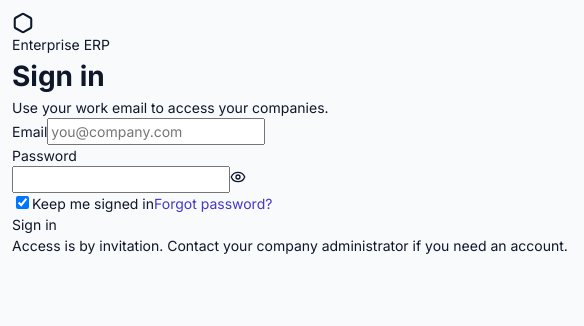
Login page › shows a form-level alert for non-validation errors
This screenshot has width=584, height=326.
Type "jane@acme.test" into the field labelled "Email". click: {"x": 156, "y": 132}
box: [47,118,265,145]
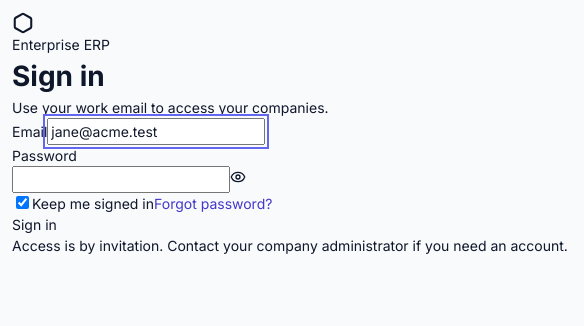
Type "pw" into the password field labelled "Password". click: {"x": 121, "y": 180}
box: [12,166,230,193]
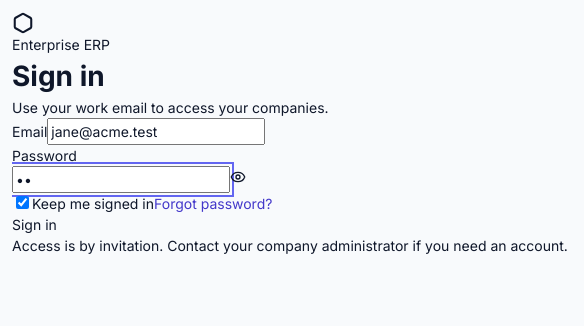
Click the button "Sign in". click: {"x": 34, "y": 224}
box: [12,214,57,235]
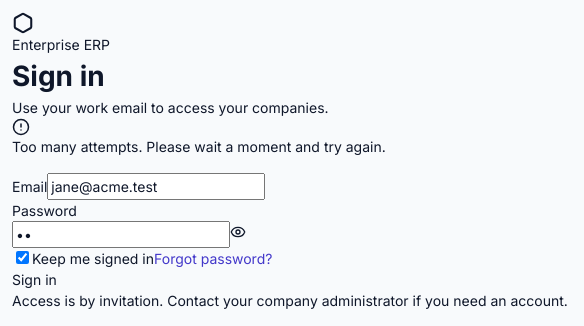
Check: the message shows "Too many attempts", box [12,138,386,155]
